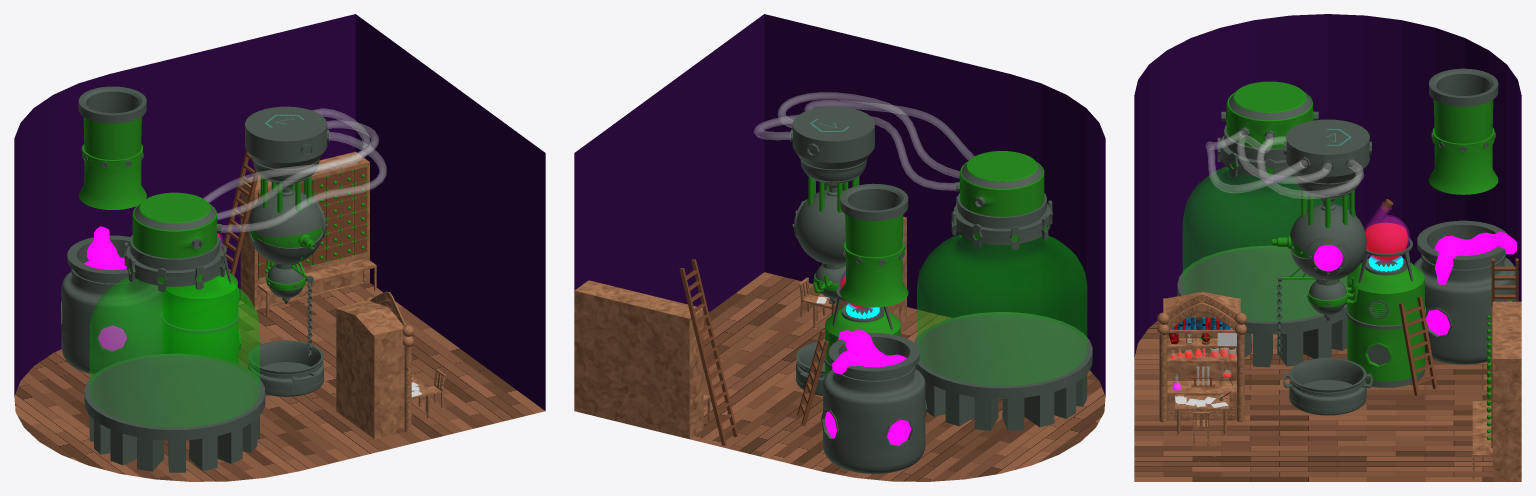
Rendered from Demo_Room-002.glb.
3 views of the same model, side by side, from view 1: azimuth 30°, elevation 25°; view 2: azimuth 150°, elevation 25°; view 3: azimuth 270°, elevation 25° (orthographic).
Visible parts, largest first — view 1: Room, Cuve.001, Cylinder.031, Cuve.002, Cube, Hote, Cylinder.032, Cylinder.026, Cube.008, Cylinder.008, Cube.009, Sphere (+9 smaller); view 2: Room, Cuve.001, Cylinder.031, Cube.008, Cuve.002, Hote, Cylinder.032, Cylinder.008, Sphere, Cube.010, BezierCurve.008, Cylinder.026 (+8 smaller); view 3: Room, Cuve.001, Cylinder.031, Cuve.002, Cylinder.026, Hote, Cube.008, Cylinder.008, Cylinder.032, Cube, Sphere, Cylinder.001 (+16 smaller).
Part boxes in pixels (left/top/right/bottom): Room: left=14, top=14, right=545, bottom=481; Cuve.001: left=90, top=237, right=259, bottom=427; Cylinder.031: left=84, top=353, right=265, bottom=472; Cuve.002: left=61, top=235, right=162, bottom=374; Cube: left=336, top=301, right=405, bottom=438; Hote: left=78, top=86, right=146, bottom=209; Cylinder.032: left=130, top=192, right=221, bottom=267; Cylinder.026: left=161, top=269, right=241, bottom=364; Cube.008: left=240, top=151, right=376, bottom=316; Cylinder.008: left=245, top=106, right=329, bottom=196; Cube.009: left=258, top=166, right=367, bottom=278; Sphere: left=248, top=189, right=327, bottom=264; Room: left=574, top=14, right=1105, bottom=481; Cuve.001: left=917, top=196, right=1086, bottom=385; Cylinder.031: left=914, top=312, right=1092, bottom=430; Cube.008: left=574, top=280, right=710, bottom=439; Cuve.002: left=821, top=333, right=927, bottom=473; Hote: left=840, top=183, right=908, bottom=307; Cylinder.032: left=955, top=151, right=1046, bottom=226; Cylinder.008: left=790, top=106, right=874, bottom=196; Sphere: left=792, top=189, right=845, bottom=264; Cube.010: left=679, top=259, right=738, bottom=445; BezierCurve.008: left=778, top=92, right=959, bottom=178; Cylinder.026: left=824, top=305, right=900, bottom=375; Room: left=1134, top=14, right=1521, bottom=481; Cuve.001: left=1183, top=135, right=1355, bottom=321; Cylinder.031: left=1177, top=245, right=1347, bottom=367; Cuve.002: left=1414, top=220, right=1515, bottom=364; Cylinder.026: left=1346, top=258, right=1426, bottom=387; Hote: left=1428, top=68, right=1498, bottom=194; Cube.008: left=1472, top=301, right=1521, bottom=481; Cylinder.008: left=1284, top=119, right=1371, bottom=210; Cylinder.032: left=1221, top=81, right=1318, bottom=158; Cube: left=1163, top=291, right=1240, bottom=420; Sphere: left=1290, top=204, right=1366, bottom=280; Cylinder.001: left=1283, top=357, right=1372, bottom=415.
Size of the model in its own units: 5 by 3 by 4.
23 materials, 7 textured.
